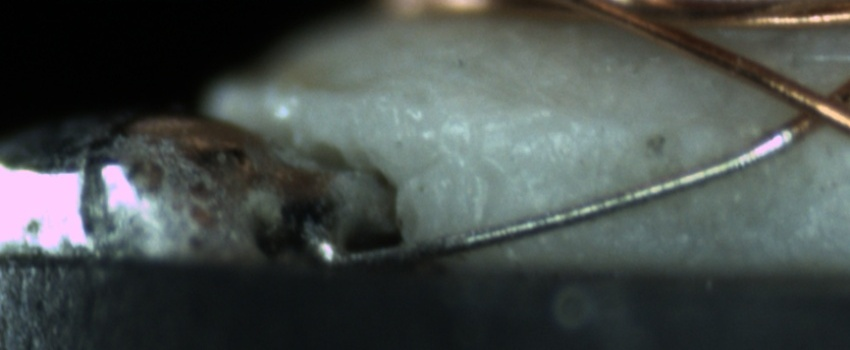CL: (769, 67, 848, 140)
DL: (517, 102, 741, 162)
TS: (336, 127, 791, 264)
